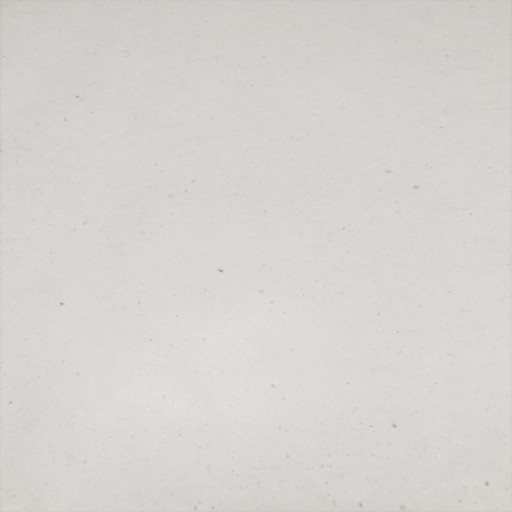lego: (237, 219, 279, 289)
